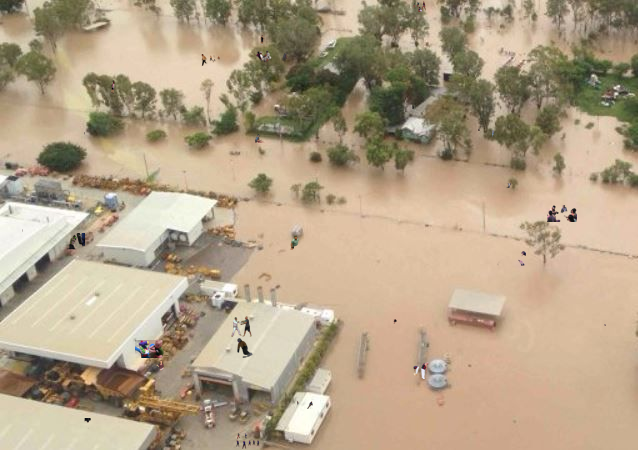Human: (135, 340, 164, 358), (547, 205, 577, 222), (497, 249, 526, 266), (400, 362, 429, 379), (256, 50, 290, 64), (231, 316, 252, 337), (66, 233, 85, 250), (237, 338, 253, 358), (201, 54, 220, 69), (101, 80, 115, 98), (236, 440, 260, 449), (412, 1, 426, 12), (290, 235, 299, 250), (297, 401, 313, 409), (156, 360, 166, 371), (254, 134, 265, 143), (84, 418, 91, 429), (237, 432, 247, 439), (259, 35, 265, 45), (503, 183, 511, 188), (393, 319, 397, 324), (492, 130, 494, 137), (412, 104, 414, 109), (478, 128, 480, 131), (604, 324, 606, 326), (22, 229, 23, 232), (84, 132, 85, 135)
